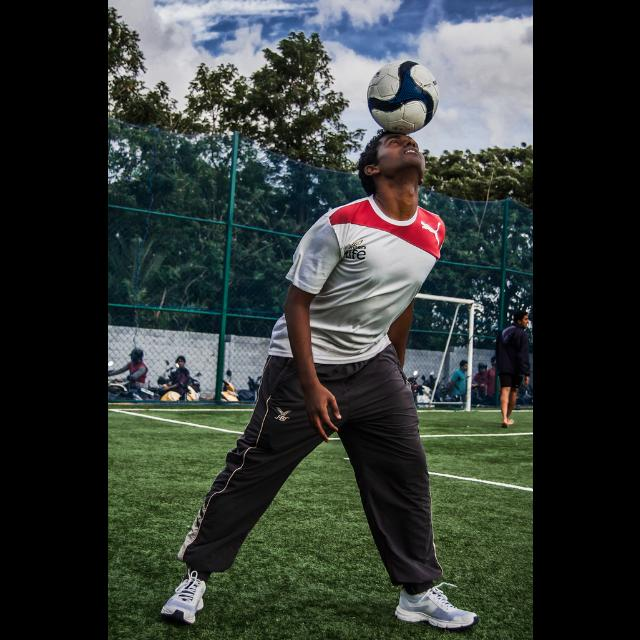Football: (362, 58, 440, 132)
